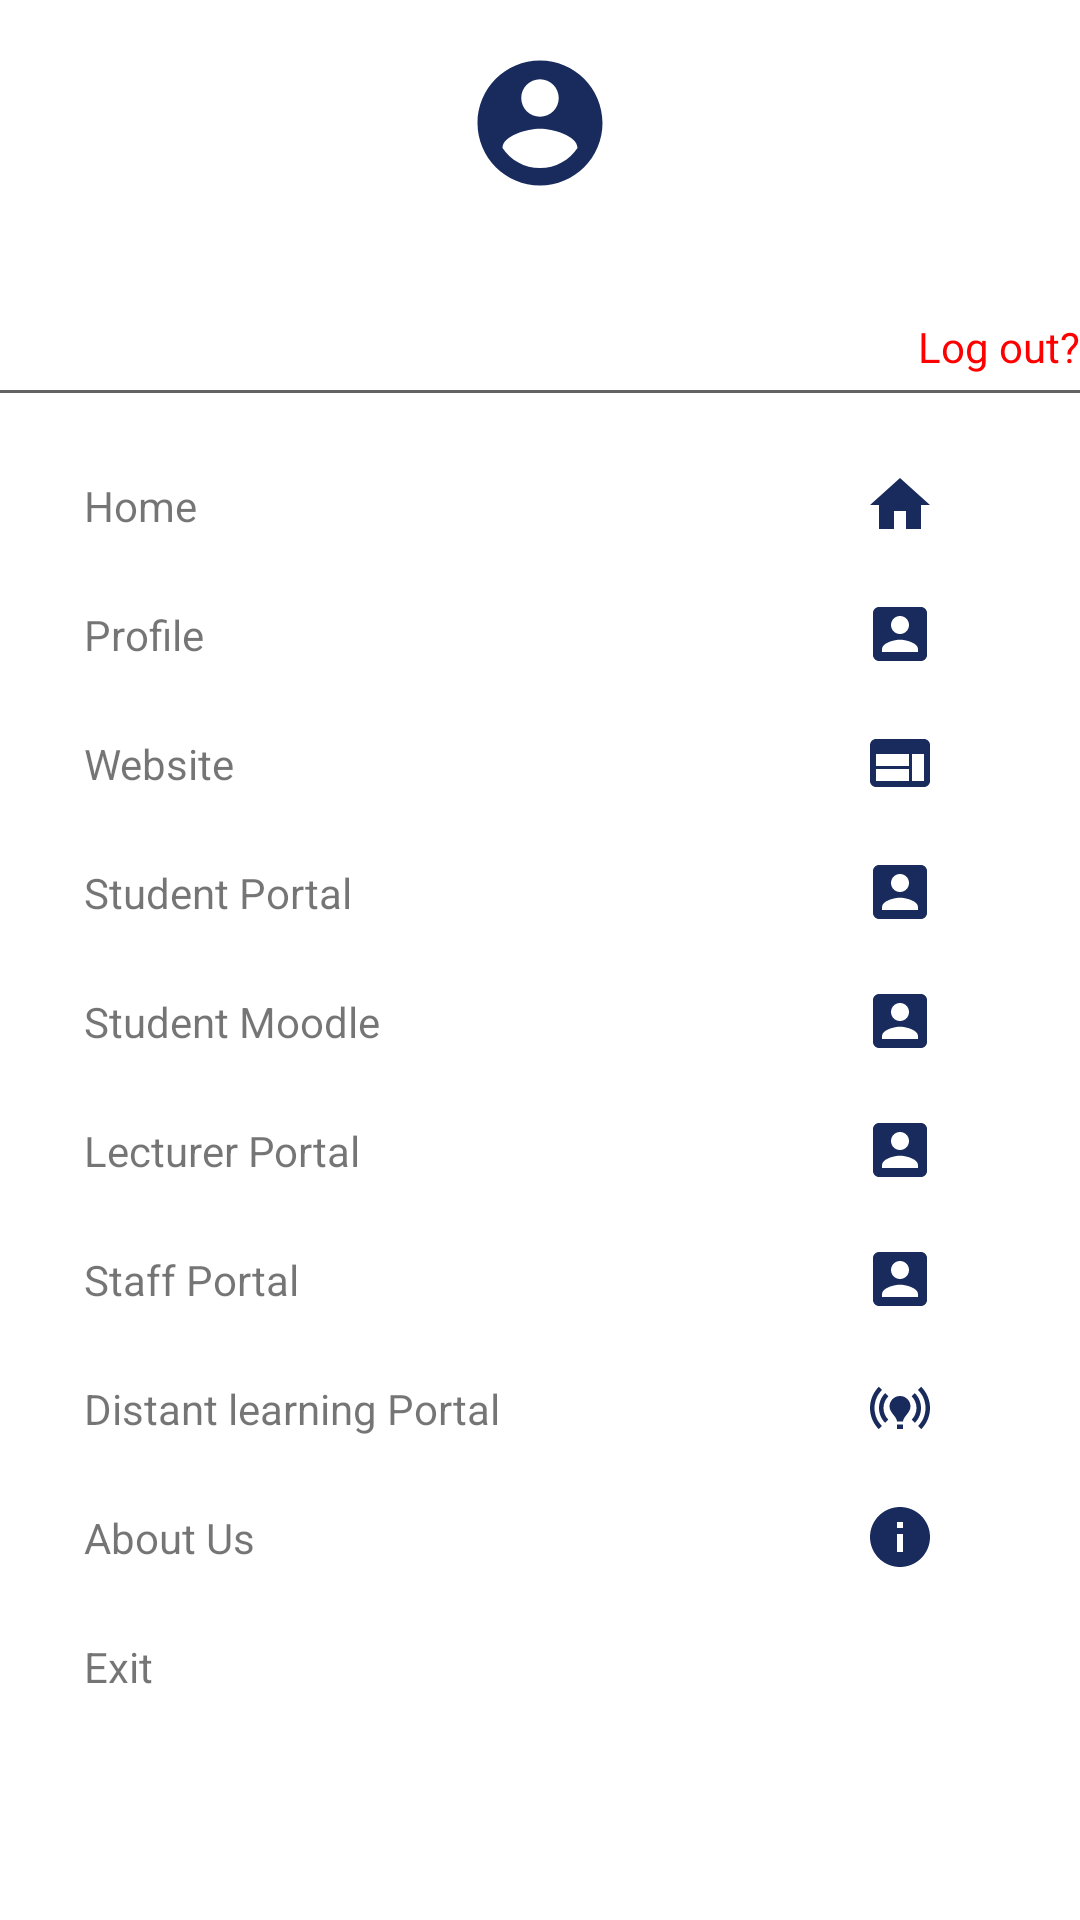

Screen size 1080 x 1920. Icon name, then its center in pixels as [x,y]:
account: [900,634], [900,892], [900,1021], [900,1150], [900,1279]
info: [900,1537]
online: [900,1408]
top user: [540,123]
web: [900,763]
